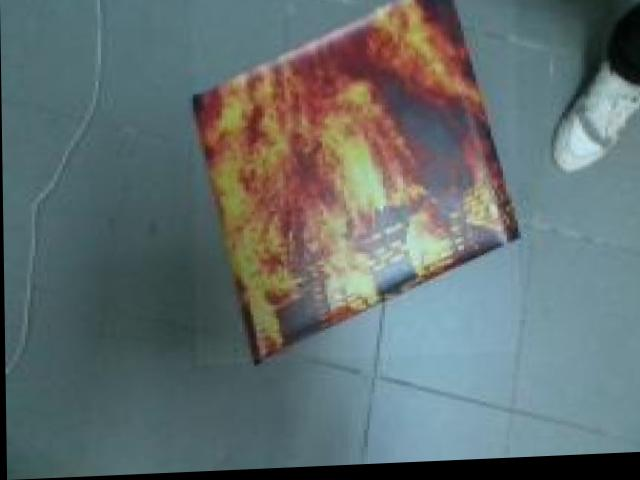fire-poster: (186, 0, 527, 371)
